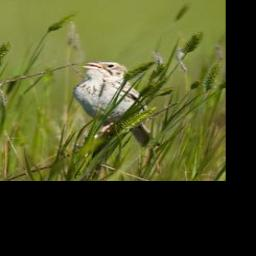Sparrow: (71, 60, 159, 147)
